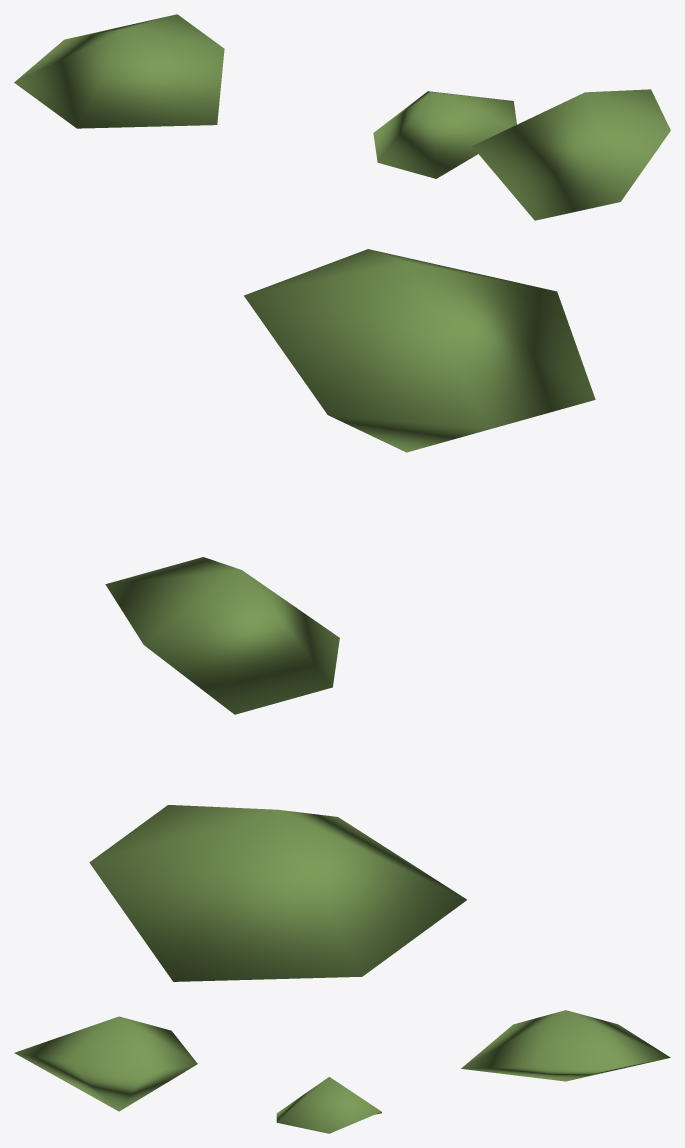
The model's file is canopy-2--2--22.glb.
The picture shows the model from 3 angles, top to bottom: view 1: azimuth 30°, elevation 25°; view 2: azimuth 150°, elevation 25°; view 3: azimuth 270°, elevation 25°; orthographic projection. The views are drawn at different scales.
Bounding box in the file's own units: 32.5 × 15 × 62.5.
Materials: 1 (1 with a texture image).
